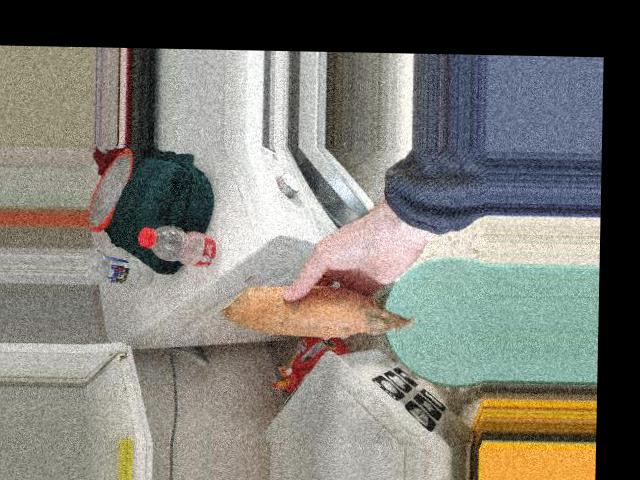sweet_potato: (244, 278, 397, 338)
